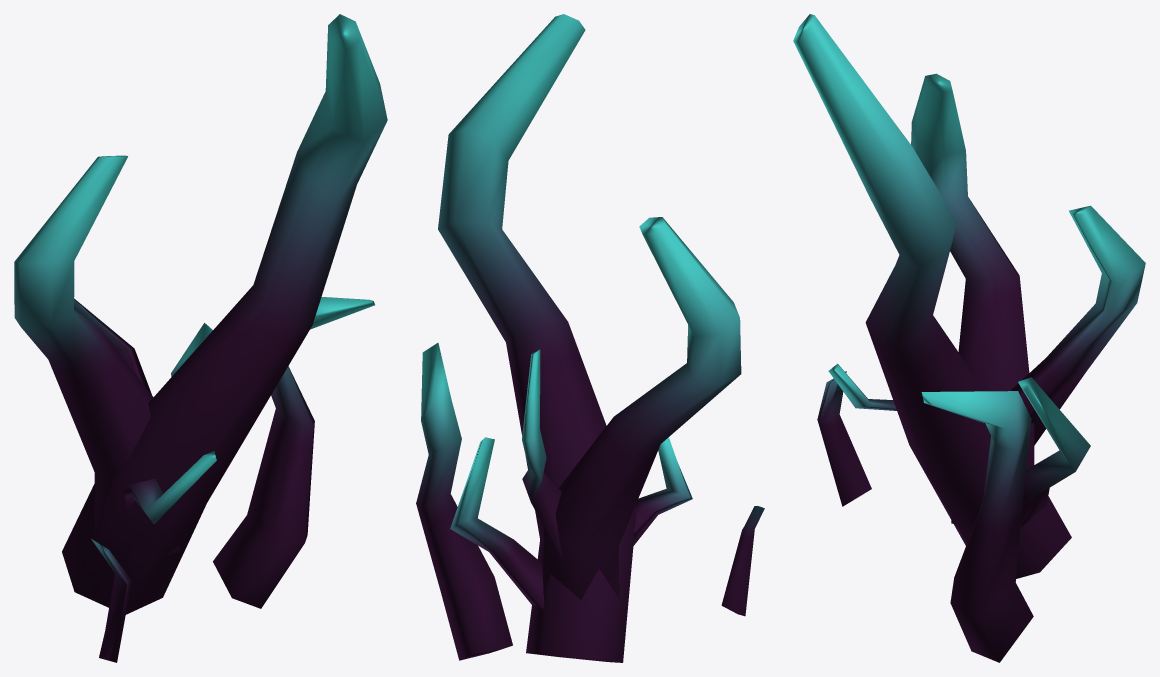
Rendered from Coral06_LP.fbx.
3 renders of one model, left to right at view 1: azimuth 30°, elevation 25°; view 2: azimuth 150°, elevation 25°; view 3: azimuth 270°, elevation 25°, orthographic. The views are drawn at different scales.
Parts seen in each view (by area): view 1: pCylinder9; view 2: pCylinder9; view 3: pCylinder9.
Boxes of the visible parts, bbox=[...] form: pCylinder9: bbox=[14, 14, 387, 662]; pCylinder9: bbox=[416, 14, 764, 662]; pCylinder9: bbox=[793, 14, 1145, 662].
Bounding box in the file's own units: 2.83 × 5.02 × 2.52.
